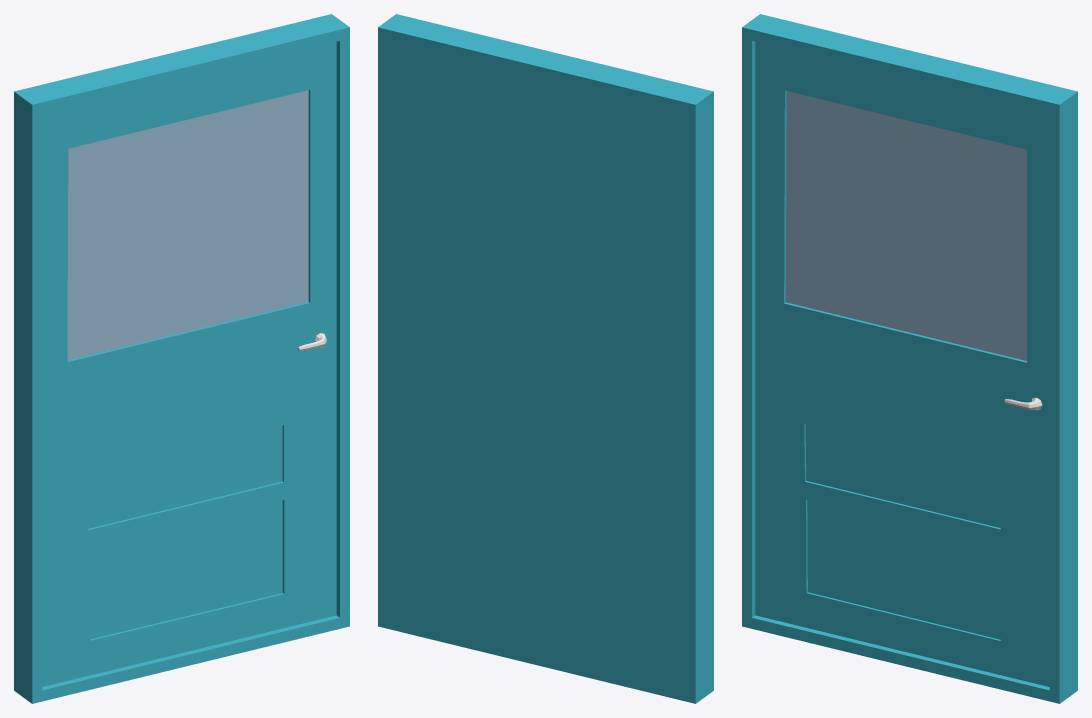
Rendered from Blue Door.glb.
The picture shows the model from 3 angles, left to right: view 1: azimuth 30°, elevation 25°; view 2: azimuth 150°, elevation 25°; view 3: azimuth 330°, elevation 25°; orthographic projection.
Visible parts, largest first — view 1: Blue Door; view 2: Blue Door; view 3: Blue Door.
Boxes of the visible parts, bbox=[...] form: Blue Door: bbox=[14, 14, 349, 703]; Blue Door: bbox=[378, 14, 713, 703]; Blue Door: bbox=[742, 14, 1077, 703].
Bounding box in the file's own units: 2 × 3.6 × 0.2295.
